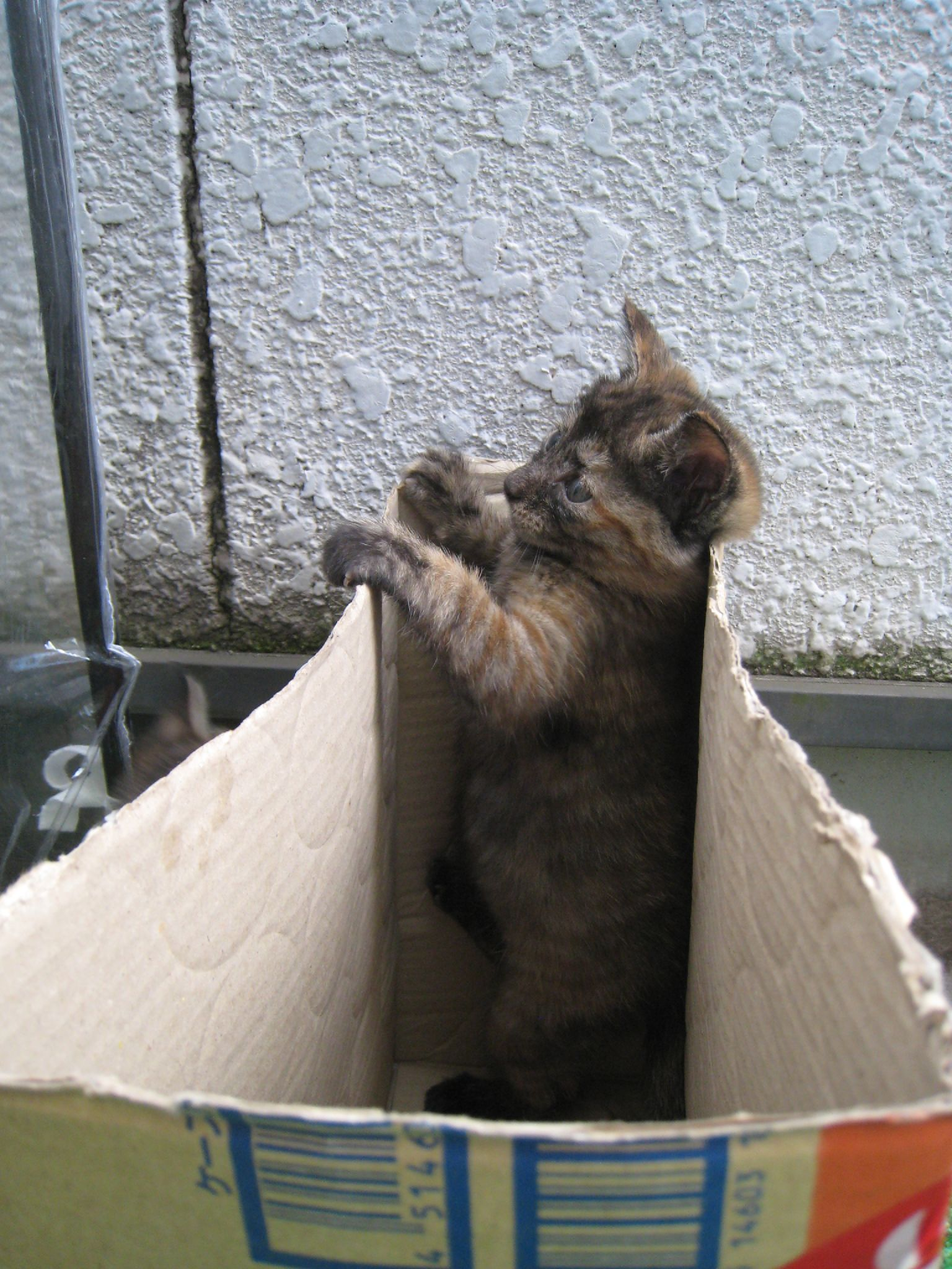cat: (313, 296, 766, 1124)
